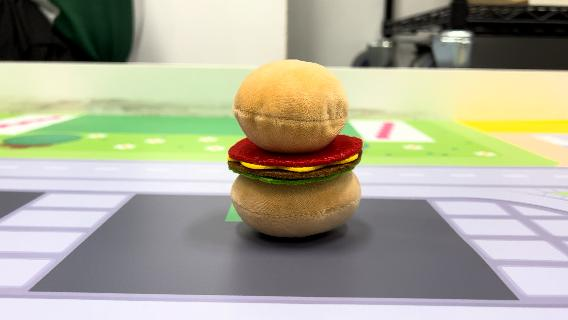burger: (223, 56, 368, 240)
